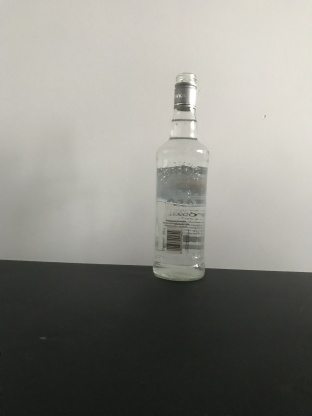nakretka: (172, 70, 198, 112)
